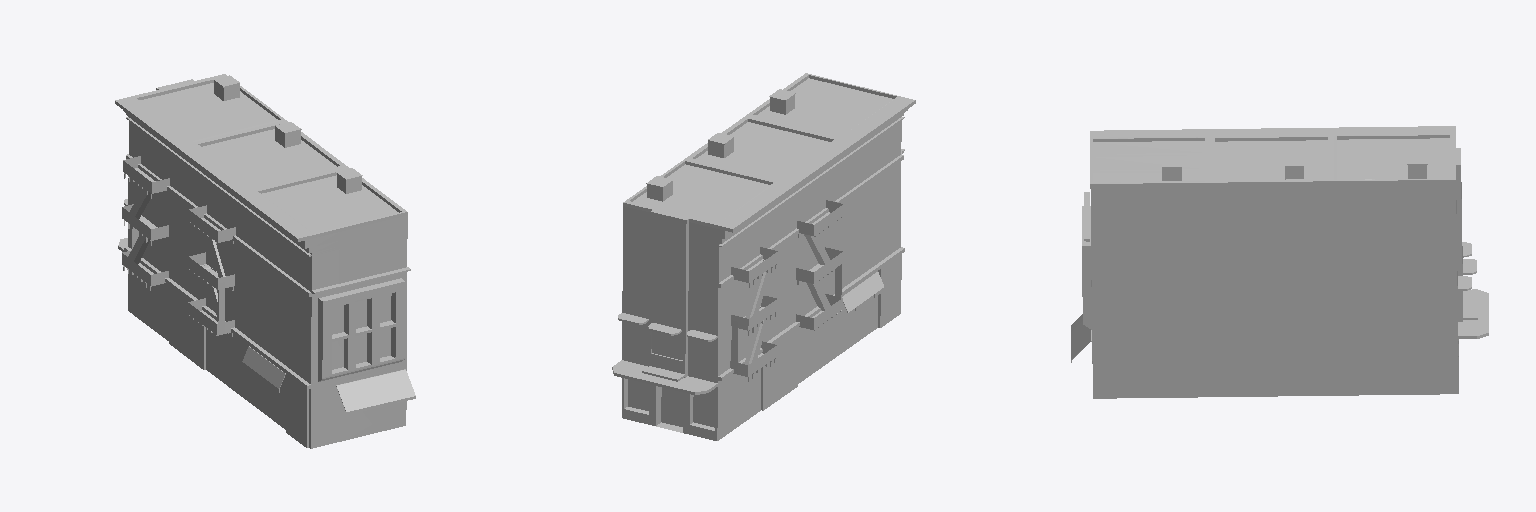
File: TB1PgDZRVXXXXbDXXXXXXXXXXXX.obj
3 renders of one model, left to right at view 1: azimuth 30°, elevation 25°; view 2: azimuth 150°, elevation 25°; view 3: azimuth 270°, elevation 25°, orthographic.
Parts seen in each view (by area): view 1: NY3:NY11Mtl_NY110001_GEP NY3:main NY3:model_GRP NY3:polySurface1, NY3:NY11Mtl_NY110002_GEP NY3:model_GRP NY3:other NY3:polySurface, NY3:NY11Mtl_NY110003_GEP NY3:model_GRP NY3:other NY3:polySurface, NY3:NY11Mtl_NY110004_GEP NY3:model_GRP NY3:other NY3:polySurface; view 2: NY3:NY11Mtl_NY110001_GEP NY3:main NY3:model_GRP NY3:polySurface1, NY3:NY11Mtl_NY110003_GEP NY3:model_GRP NY3:other NY3:polySurface, NY3:NY11Mtl_NY110002_GEP NY3:model_GRP NY3:other NY3:polySurface, NY3:NY11Mtl_NY110004_GEP NY3:model_GRP NY3:other NY3:polySurface; view 3: NY3:NY11Mtl_NY110001_GEP NY3:main NY3:model_GRP NY3:polySurface1, NY3:NY11Mtl_NY110004_GEP NY3:model_GRP NY3:other NY3:polySurface.
Part boxes in pixels (x1,y1,x2,y2): NY3:NY11Mtl_NY110001_GEP NY3:main NY3:model_GRP NY3:polySurface1: (115, 74, 410, 448); NY3:NY11Mtl_NY110002_GEP NY3:model_GRP NY3:other NY3:polySurface: (188, 205, 235, 336); NY3:NY11Mtl_NY110003_GEP NY3:model_GRP NY3:other NY3:polySurface: (122, 156, 169, 290); NY3:NY11Mtl_NY110004_GEP NY3:model_GRP NY3:other NY3:polySurface: (242, 346, 415, 411); NY3:NY11Mtl_NY110001_GEP NY3:main NY3:model_GRP NY3:polySurface1: (612, 73, 915, 440); NY3:NY11Mtl_NY110003_GEP NY3:model_GRP NY3:other NY3:polySurface: (730, 247, 777, 381); NY3:NY11Mtl_NY110002_GEP NY3:model_GRP NY3:other NY3:polySurface: (796, 200, 842, 330); NY3:NY11Mtl_NY110004_GEP NY3:model_GRP NY3:other NY3:polySurface: (842, 272, 884, 312); NY3:NY11Mtl_NY110001_GEP NY3:main NY3:model_GRP NY3:polySurface1: (1082, 126, 1488, 398); NY3:NY11Mtl_NY110004_GEP NY3:model_GRP NY3:other NY3:polySurface: (1071, 314, 1091, 362).
Bounding box in the file's own units: 2056 × 3961 × 6519.